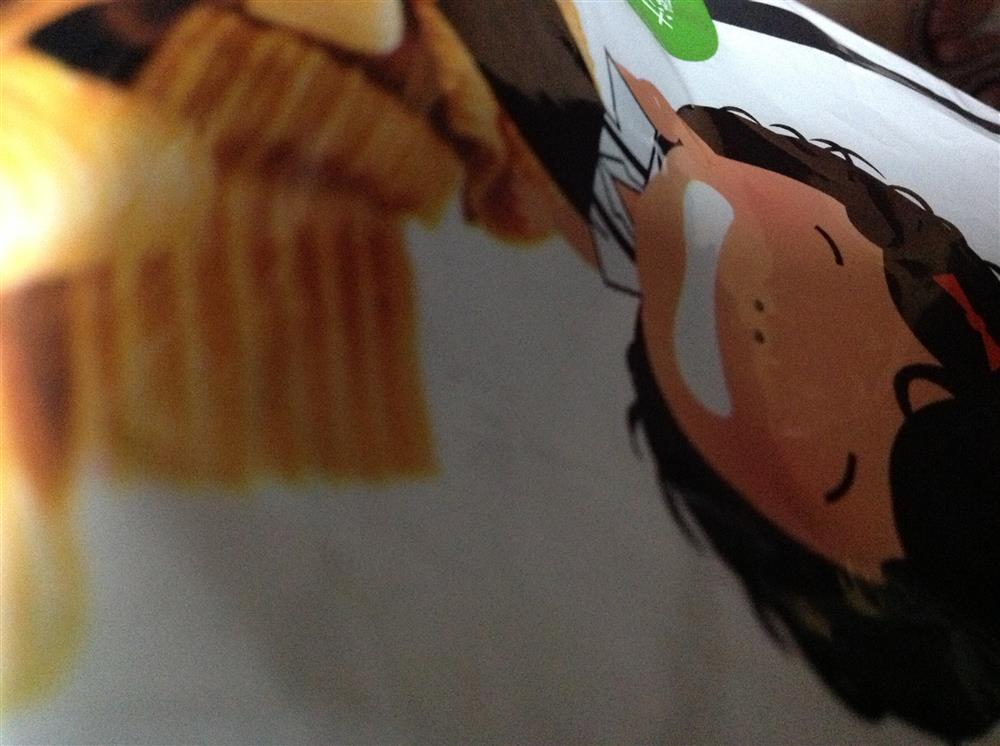zhangjunya: (1, 3, 999, 745)
